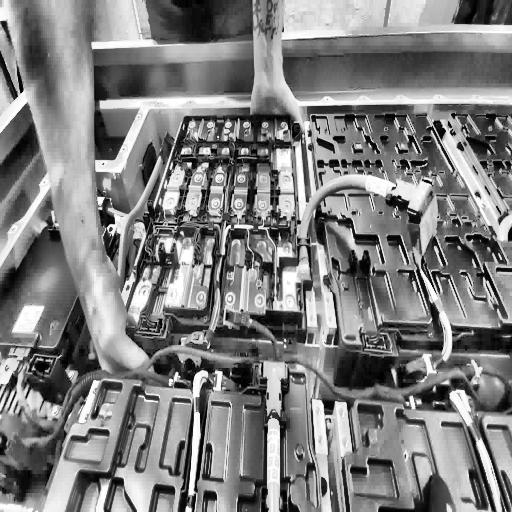high_volt_cable: (297, 169, 442, 288), (104, 147, 169, 297), (266, 375, 284, 512)
low_volt_cable: (12, 331, 511, 468)
nut: (51, 404, 60, 416)
